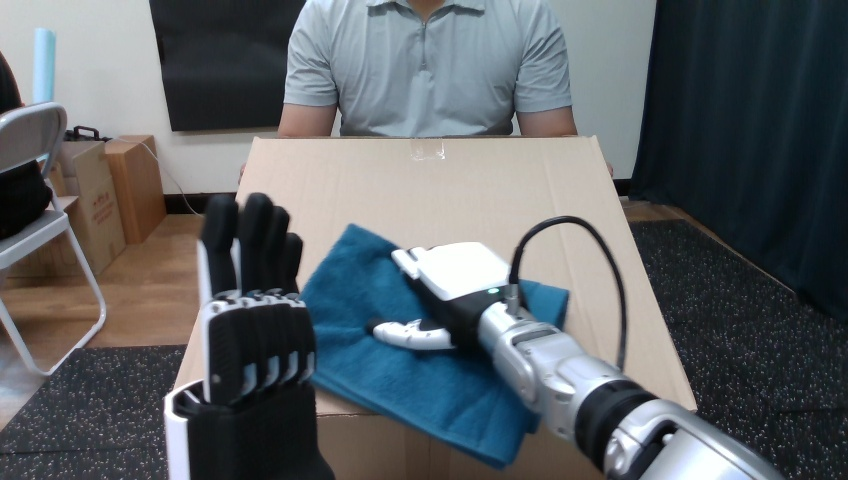left robot hand: (367, 216, 781, 479), (164, 193, 333, 479), (517, 222, 621, 369)
